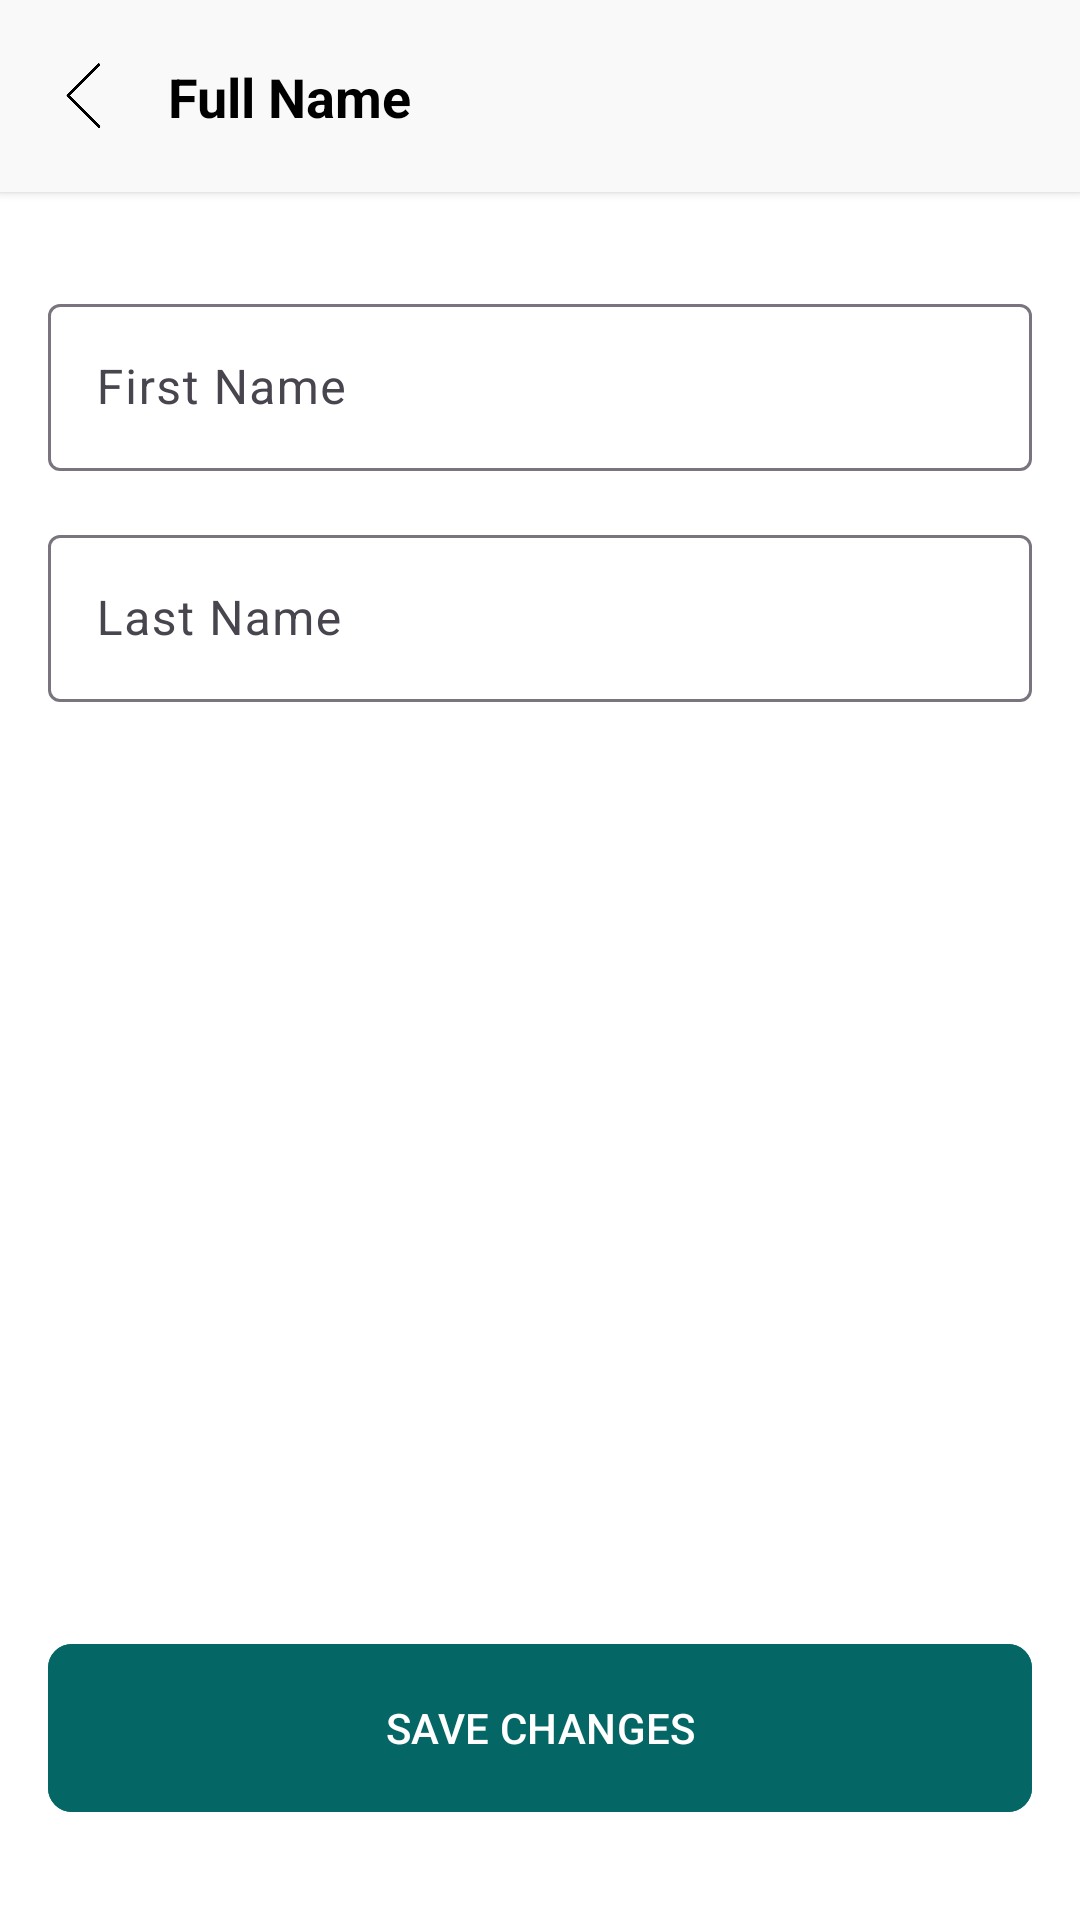

Where icons sit on this 1080*1920 app screen, as box(x1, y1, x2, y2):
Back: box(66, 63, 100, 128)
